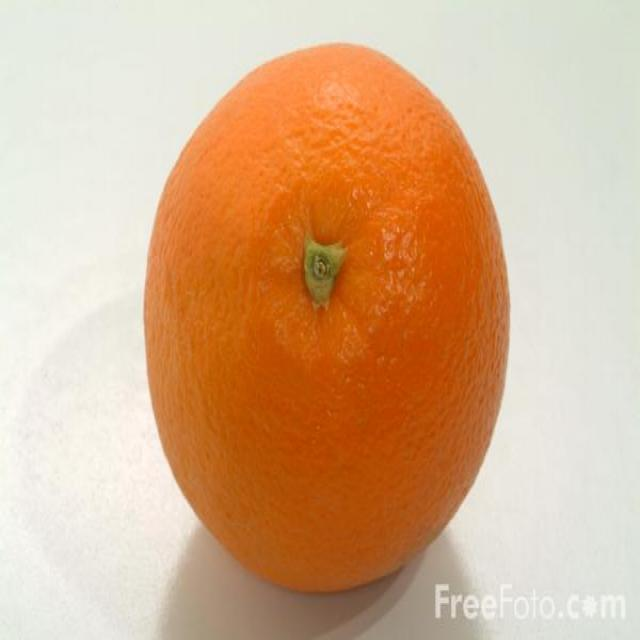Orange: (146, 35, 515, 596)
